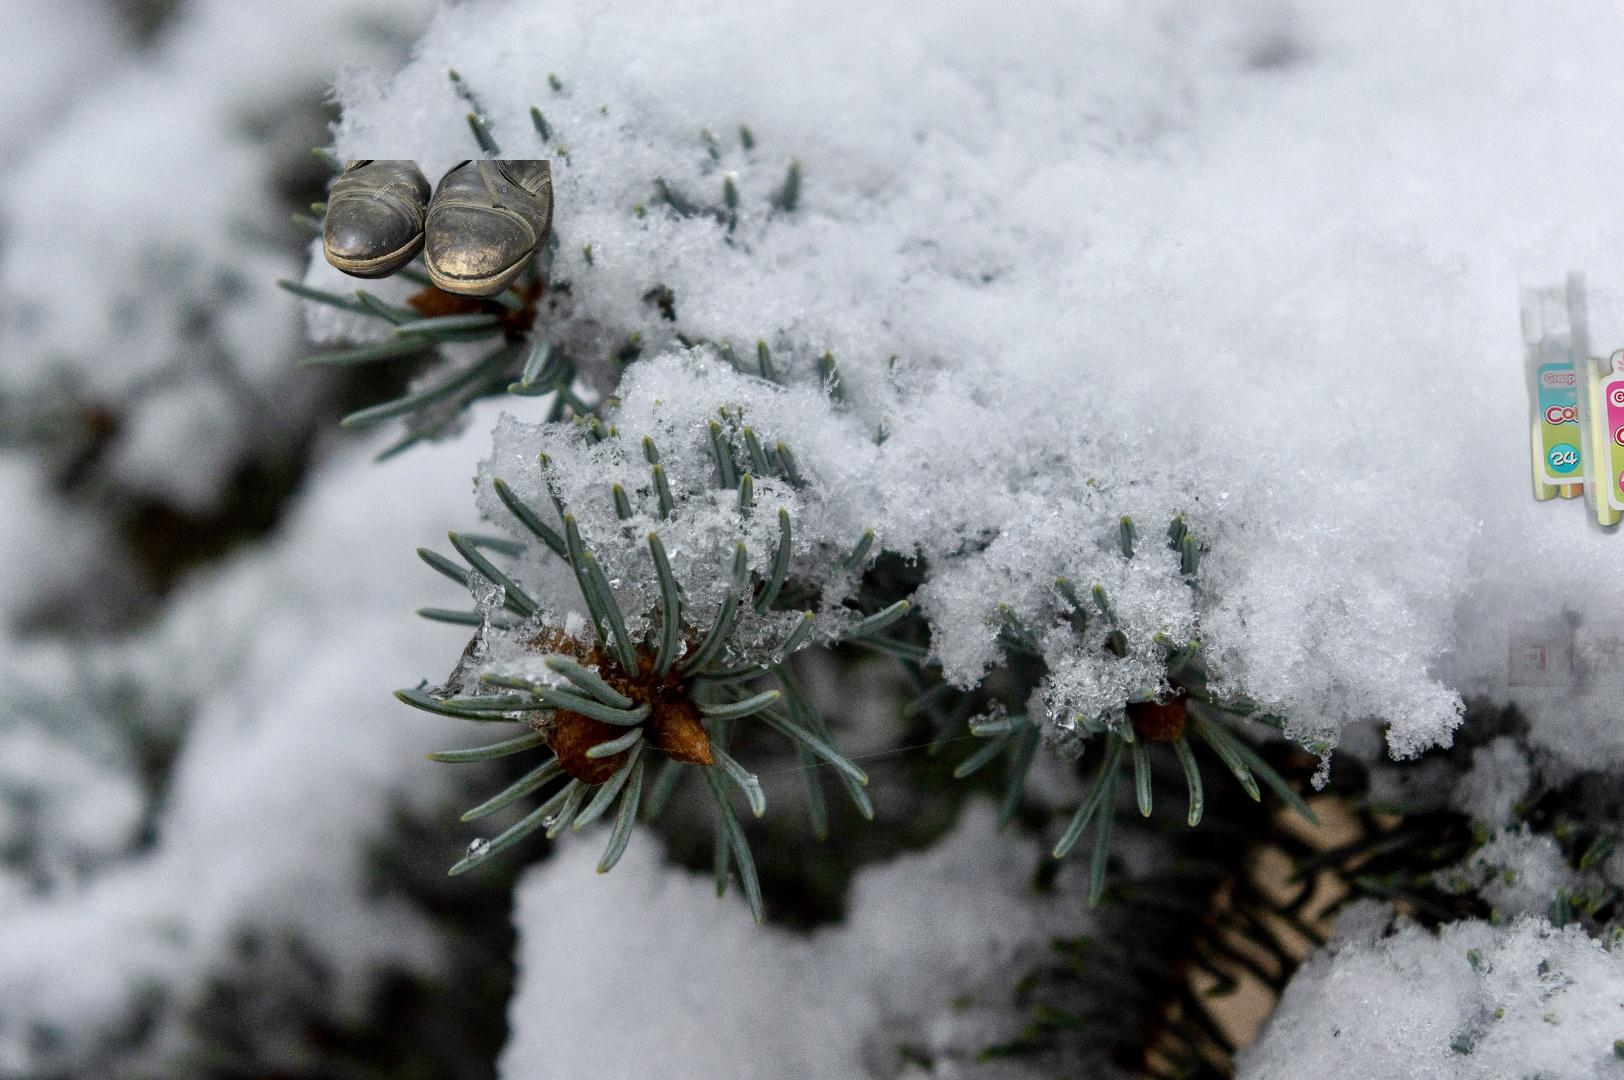penholder: (1508, 209, 1624, 687)
shoes: (319, 160, 557, 303)
